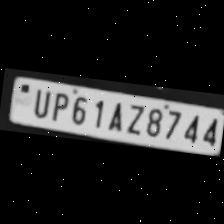1: (86, 95, 108, 129)
4: (178, 109, 202, 144), (196, 111, 220, 146)
6: (64, 92, 90, 125)
7: (160, 106, 182, 141)
8: (141, 103, 164, 137)
A: (103, 96, 125, 132)
P: (46, 88, 68, 122)
U: (28, 85, 52, 119)
Z: (120, 100, 144, 134)
